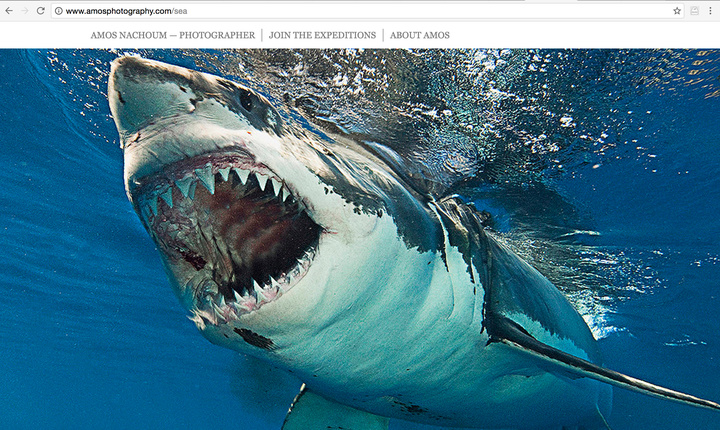shark: (99, 50, 712, 430)
